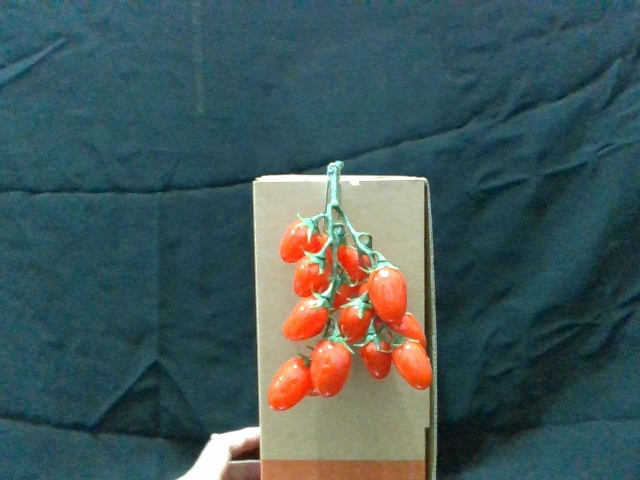tomato: (309, 336, 353, 399), (365, 258, 408, 322), (269, 353, 312, 414), (393, 333, 437, 391), (282, 297, 331, 343), (281, 215, 324, 262), (295, 251, 332, 298), (338, 294, 374, 342), (360, 333, 393, 381)
